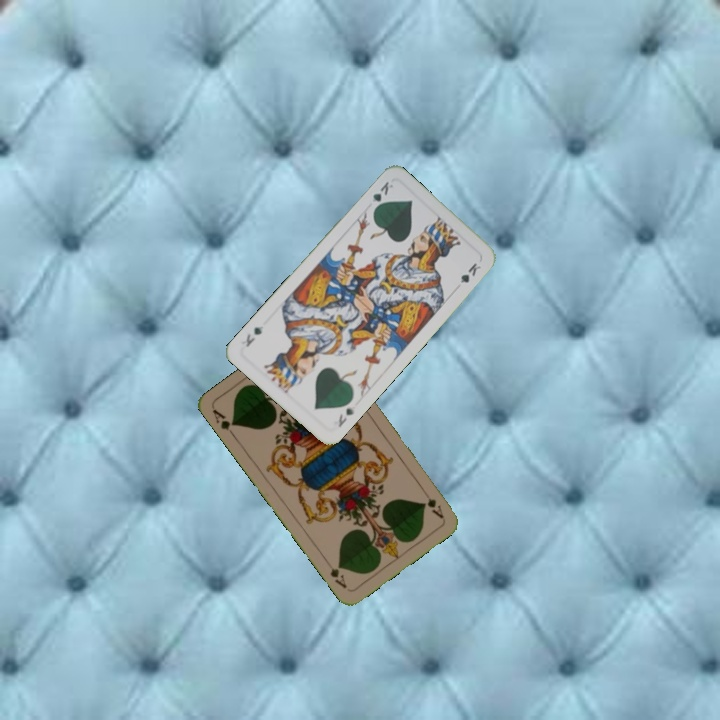GA: (208, 405, 239, 440), (419, 485, 446, 521)
GK: (368, 177, 396, 214), (334, 404, 357, 430)
